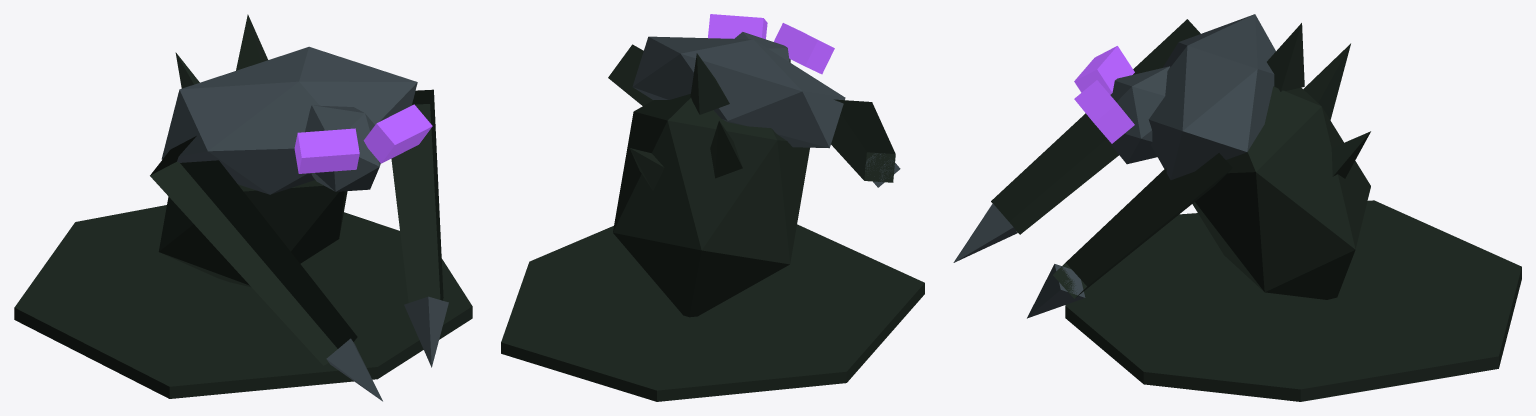
Rendered from afogado.glb.
The picture shows the model from 3 angles, left to right: view 1: azimuth 30°, elevation 25°; view 2: azimuth 150°, elevation 25°; view 3: azimuth 270°, elevation 25°; orthographic projection. The views are drawn at different scales.
Parts seen in each view (by area): view 1: afogado, brilho; view 2: afogado, brilho; view 3: afogado, brilho.
Part boxes in pixels (x1=…): afogado: x1=14, y1=14, x2=472, y2=401; brilho: x1=294, y1=104, x2=432, y2=173; afogado: x1=501, y1=32, x2=924, y2=401; brilho: x1=708, y1=14, x2=834, y2=74; afogado: x1=953, y1=14, x2=1521, y2=401; brilho: x1=1074, y1=46, x2=1134, y2=143.
Size of the model in its own units: 0.97 by 0.6912 by 1.23.
